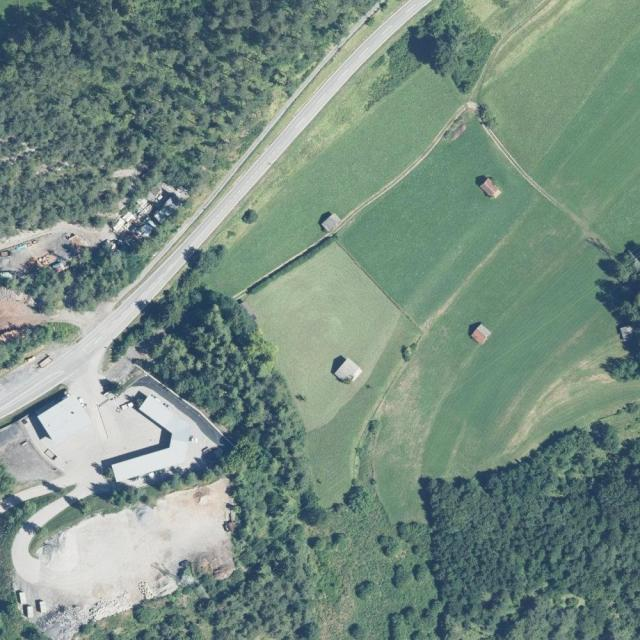building: (106, 394, 205, 505), (130, 368, 232, 447), (0, 417, 63, 500), (112, 178, 184, 250), (36, 392, 93, 446), (326, 351, 364, 387), (185, 423, 209, 465), (473, 170, 503, 202), (465, 318, 493, 346), (317, 210, 342, 234), (35, 598, 48, 613)
dryland: (0, 211, 115, 276), (1, 286, 48, 329)
greenland: (110, 246, 326, 640), (190, 57, 475, 313), (187, 58, 475, 310), (245, 51, 401, 219), (301, 475, 449, 640), (0, 229, 161, 334), (323, 528, 435, 640), (346, 31, 431, 114), (91, 463, 215, 506), (22, 497, 92, 558), (205, 196, 265, 260), (466, 1, 544, 34), (79, 478, 141, 517), (69, 609, 142, 640), (583, 416, 626, 456), (0, 465, 9, 489)
metalled_road: (152, 0, 387, 263), (53, 303, 112, 333)
unmetalled_road: (233, 98, 483, 311), (475, 121, 616, 261), (1, 484, 72, 585)
